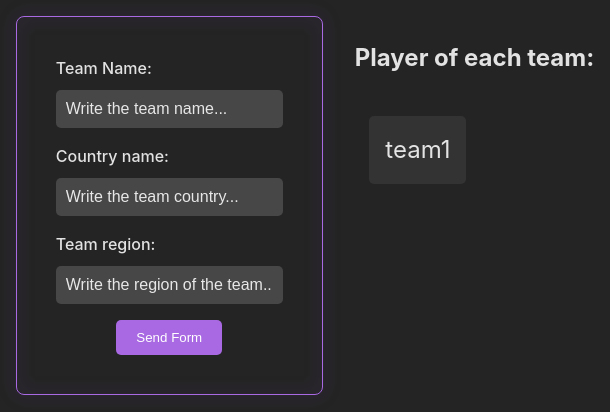
Test: CreateTeamForm › when form is submitted successfully › submits the form and shows the new team
Type "team3" into the field labelled "Team Name:" at {"x": 169, "y": 109}, box [56, 90, 283, 128]
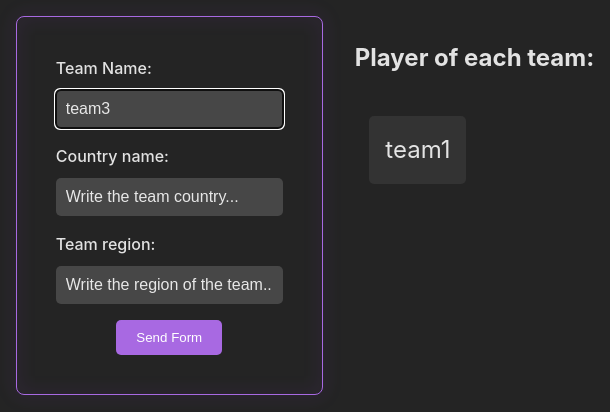
Type "Canada" into the field labelled "Country name:" at {"x": 169, "y": 197}, box [56, 178, 283, 216]
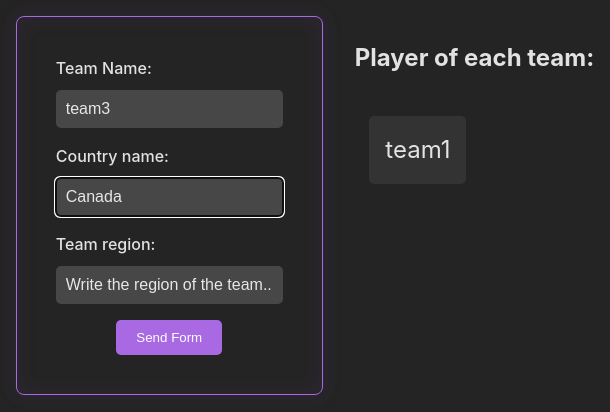
Type "North America" into the field labelled "Team region:" at {"x": 169, "y": 285}, box [56, 266, 283, 304]
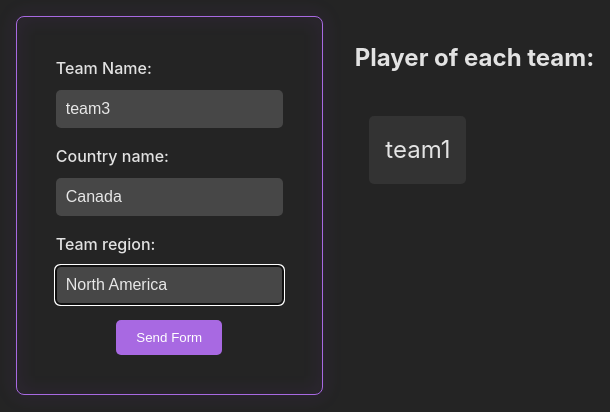
Click the button "Send Form" at {"x": 169, "y": 338}, box [116, 320, 222, 355]
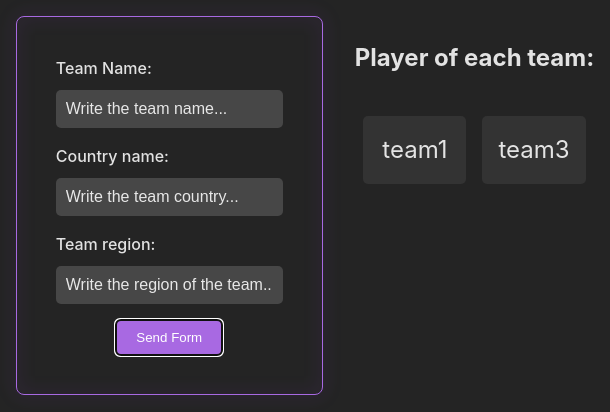
Check: the list item "team3" is shown, box [482, 116, 586, 184]
